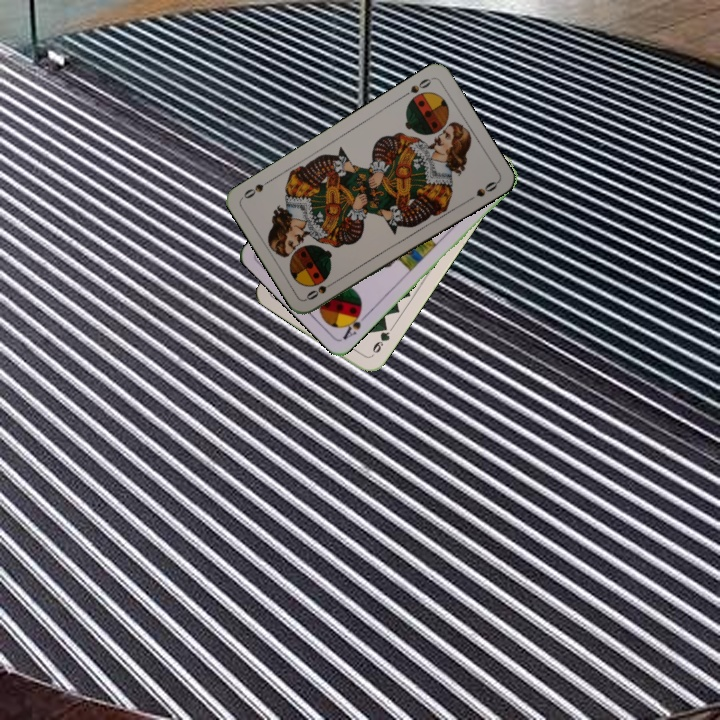G9: (367, 321, 393, 359)
SA: (339, 305, 370, 342)
SO: (302, 276, 339, 303), (398, 74, 435, 100)
